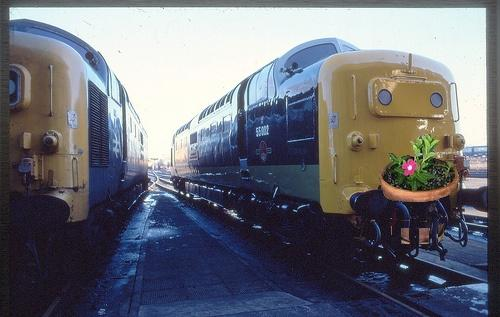tampered: (380, 135, 458, 244)
